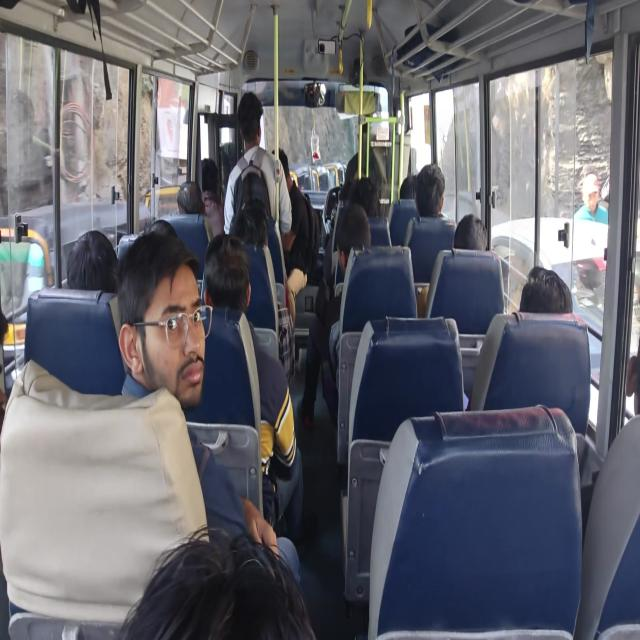person: (148, 520, 310, 640), (128, 259, 205, 398), (514, 266, 576, 333), (281, 167, 316, 281), (207, 244, 260, 309), (331, 200, 372, 268), (611, 325, 640, 420), (71, 226, 120, 281), (0, 291, 23, 384), (414, 161, 450, 218), (232, 199, 276, 237), (459, 210, 491, 256), (241, 94, 265, 150), (349, 172, 382, 210), (184, 186, 207, 232), (201, 164, 227, 196), (402, 168, 418, 203)
